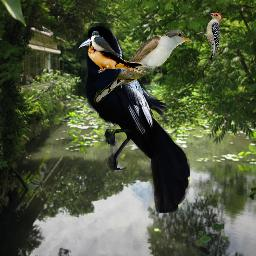Crow: (77, 23, 190, 213)
Cuckoo: (92, 29, 196, 104)
Swallow: (87, 38, 150, 76), (91, 31, 122, 58)
Woodpecker: (196, 12, 222, 63)
